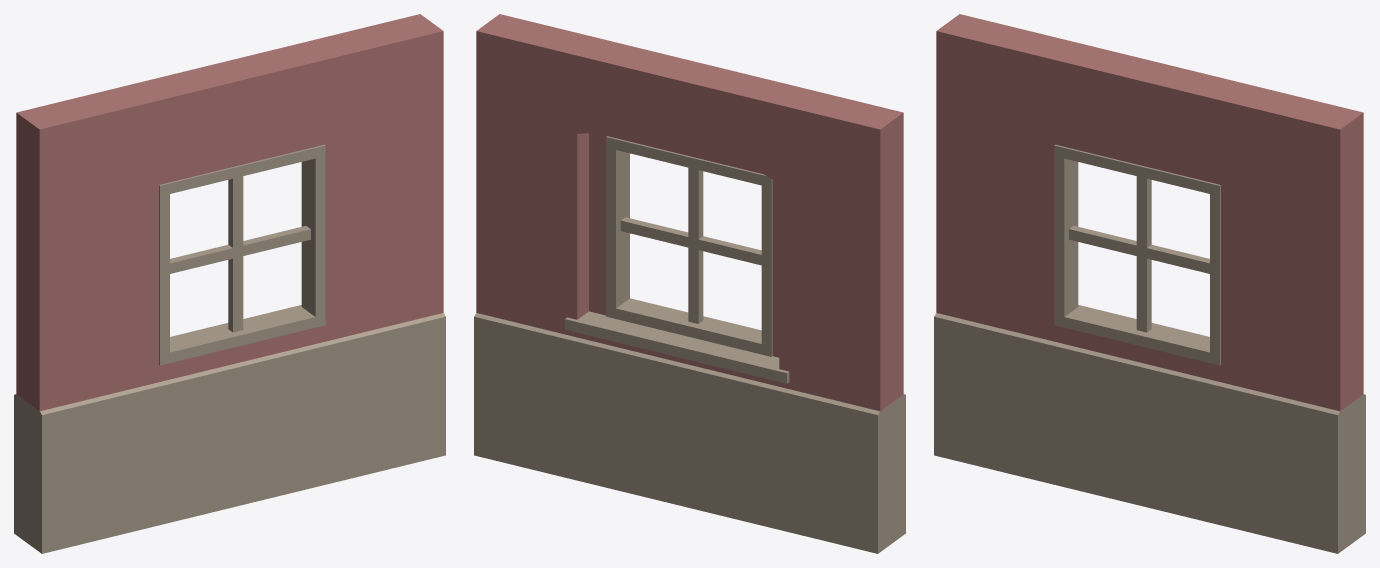
File: wall_base_window.fbx
The picture shows the model from 3 angles, left to right: view 1: azimuth 30°, elevation 25°; view 2: azimuth 150°, elevation 25°; view 3: azimuth 330°, elevation 25°; orthographic projection.
Visible parts, largest first — view 1: Cube; view 2: Cube; view 3: Cube.
Part boxes in pixels (bbox=[...]): Cube: bbox=[14, 14, 445, 553]; Cube: bbox=[474, 14, 905, 553]; Cube: bbox=[934, 14, 1365, 553].
Bounding box in the file's own units: 400 × 400 × 48.
